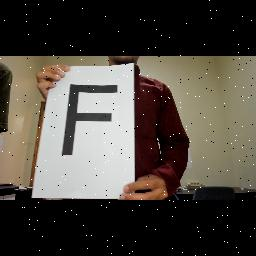f: (60, 78, 124, 160)
